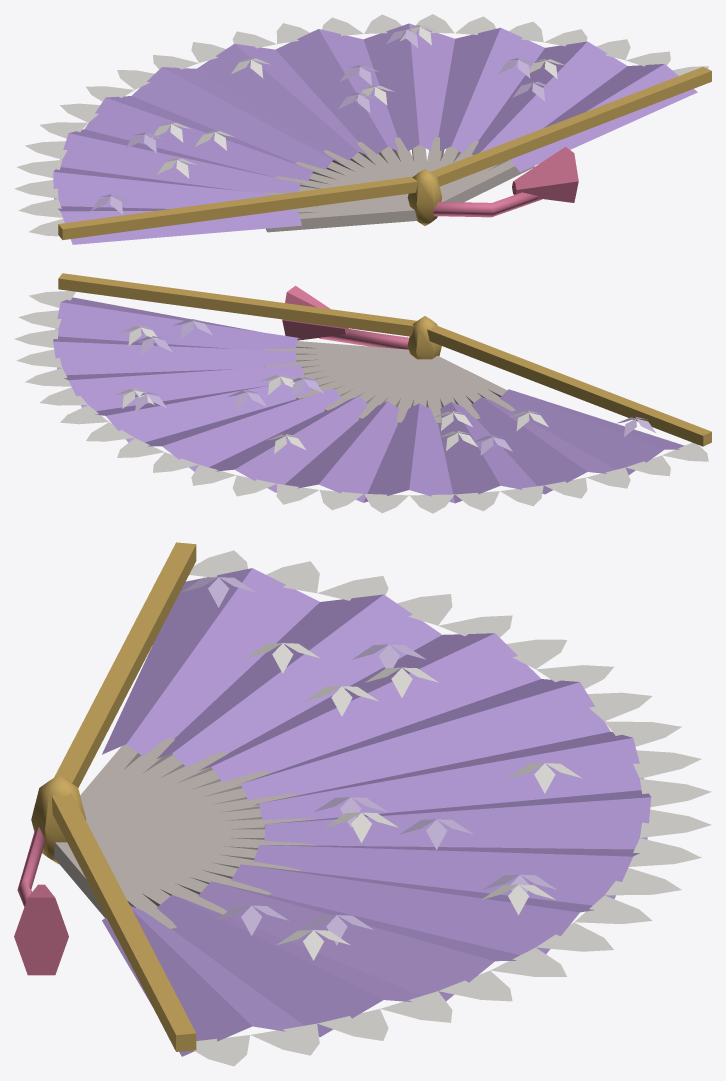
Rendered from fan_lace.glb.
3 views of the same model, one above another, from view 1: azimuth 30°, elevation 25°; view 2: azimuth 150°, elevation 25°; view 3: azimuth 270°, elevation 25° (orthographic). The views are drawn at different scales.
Parts seen in each view (by area): view 1: fan_lace; view 2: fan_lace; view 3: fan_lace.
Part boxes in pixels (x1,y1,x2,y2): fan_lace: (14,14,711,244); fan_lace: (14,273,711,513); fan_lace: (14,542,711,1066).
Size of what is drawn, in the model's own units: 0.35 by 0.03 by 0.2.
